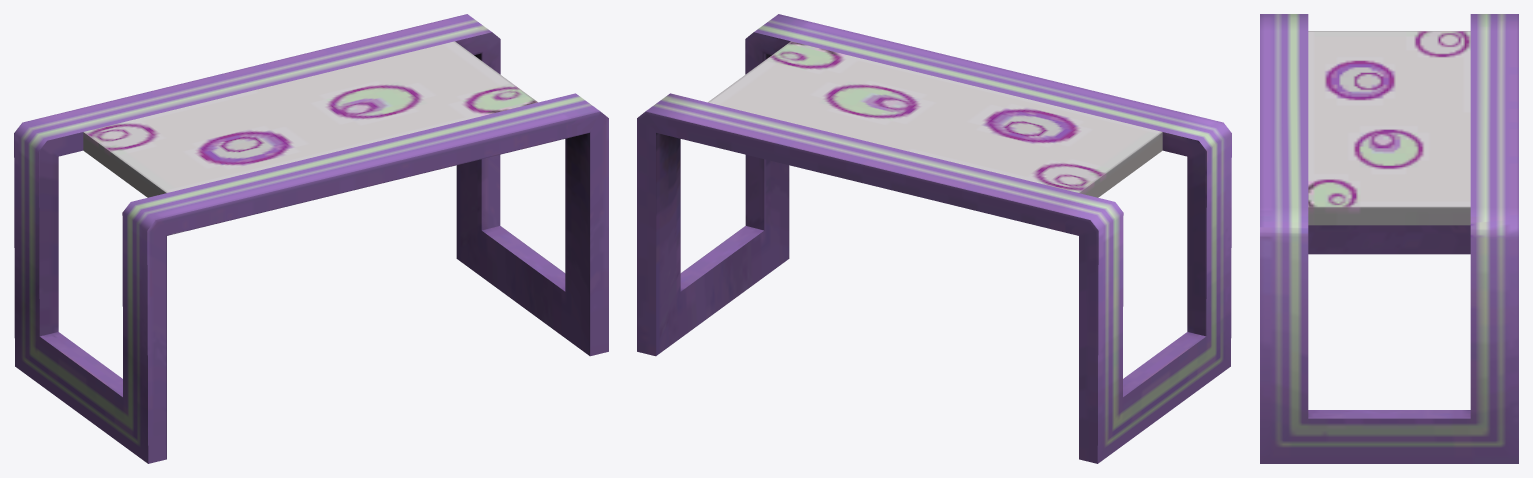
The model's file is furni_0200506_03.FBX.
The picture shows the model from 3 angles, left to right: view 1: azimuth 30°, elevation 25°; view 2: azimuth 150°, elevation 25°; view 3: azimuth 270°, elevation 25°; orthographic projection. The views are drawn at different scales.
Parts seen in each view (by area): view 1: furni_0200506_03; view 2: furni_0200506_03; view 3: furni_0200506_03.
Part boxes in pixels (left/top/right/bottom): furni_0200506_03: left=14, top=14, right=608, bottom=463; furni_0200506_03: left=637, top=14, right=1231, bottom=463; furni_0200506_03: left=1260, top=14, right=1518, bottom=463.
Bounding box in the file's own units: 160 × 80.19 × 80.
1 material, 1 textured.
